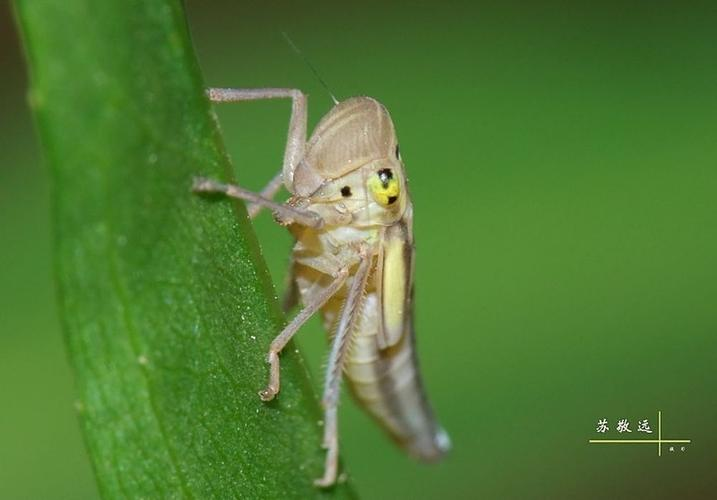Cicadellidae: (192, 85, 458, 486)
